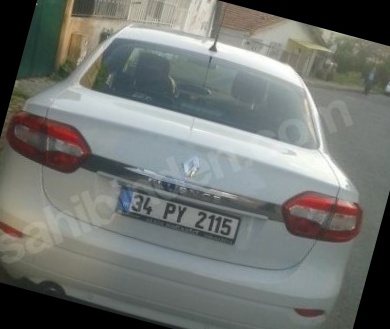plaka: (131, 188, 234, 238)
